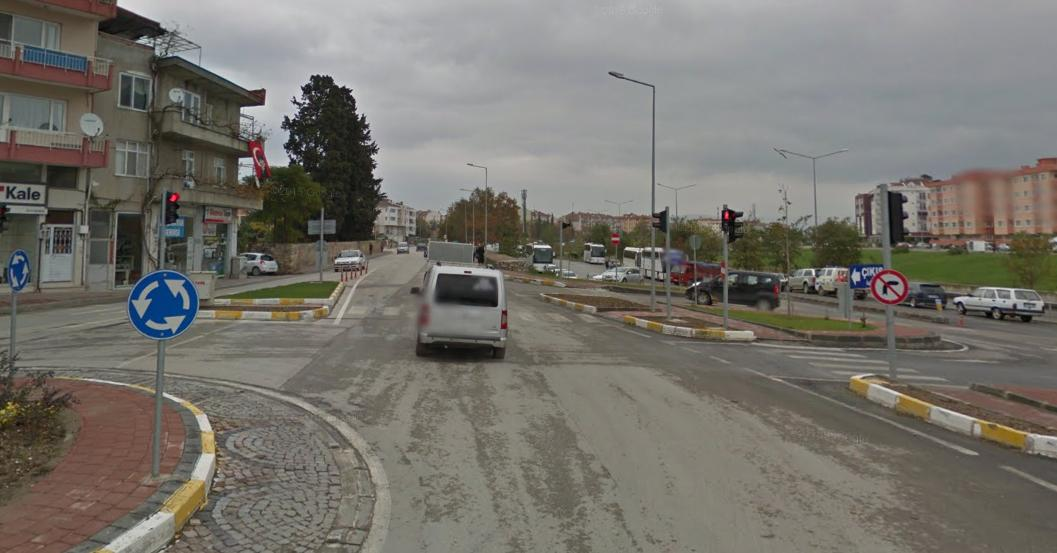crossroads: (127, 269, 199, 338), (6, 250, 31, 293)
redlight: (163, 189, 182, 225)
rightturnsareforbidden: (871, 271, 909, 306)
